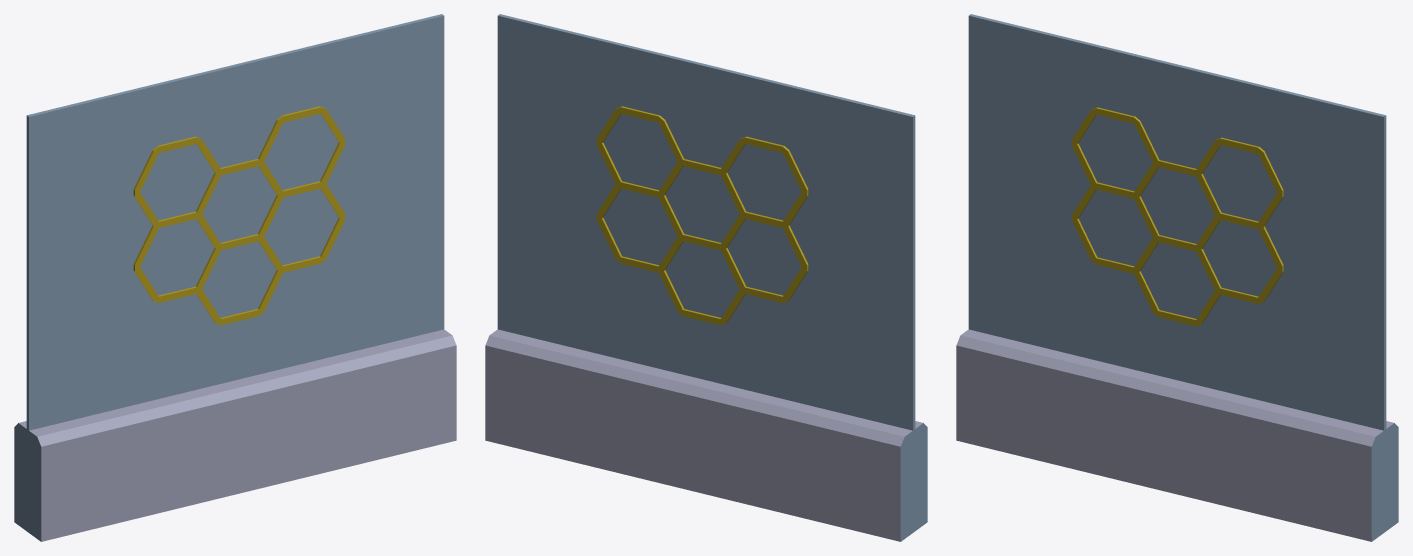
The model's file is fence_monolith1.FBX.
The picture shows the model from 3 angles, left to right: view 1: azimuth 30°, elevation 25°; view 2: azimuth 150°, elevation 25°; view 3: azimuth 330°, elevation 25°; orthographic projection.
Visible parts, largest first — view 1: fence_monolith; view 2: fence_monolith; view 3: fence_monolith.
Boxes of the visible parts, x1,y1,x2,y2 form: fence_monolith: (14, 14, 456, 541); fence_monolith: (485, 14, 927, 541); fence_monolith: (956, 14, 1398, 541).
Bounding box in the file's own units: 100 × 11.18 × 95.7.
